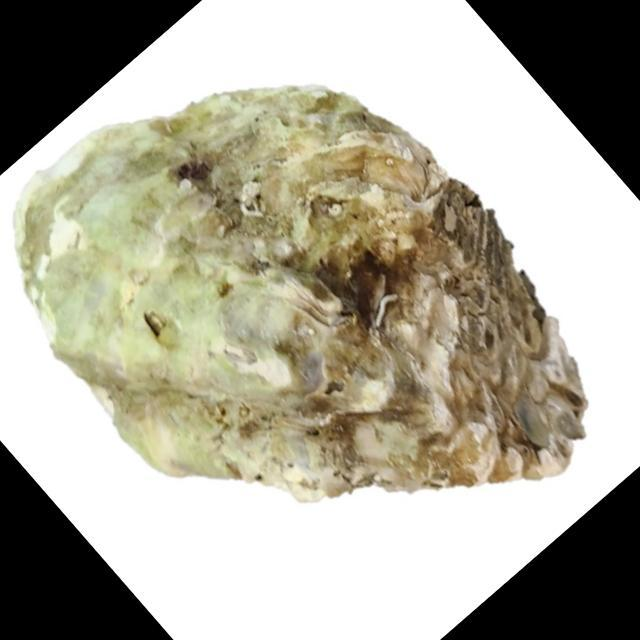Oyster- Indeterminate: (13, 84, 589, 506)
